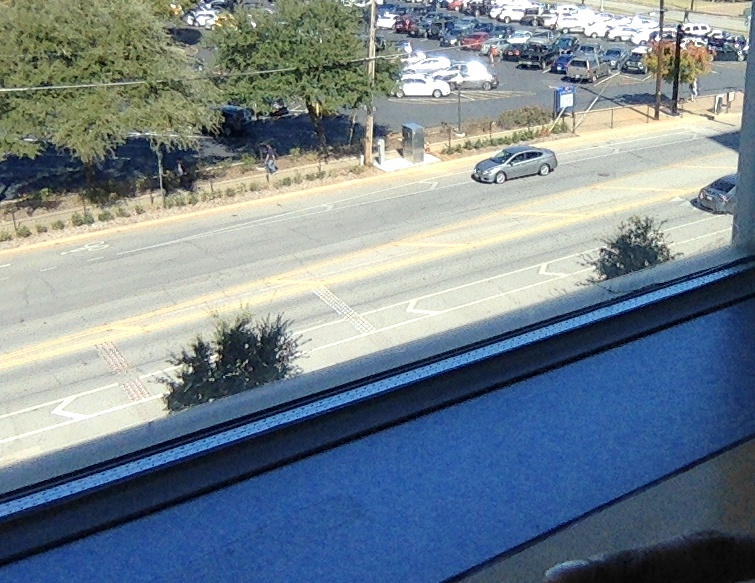car: (300, 300, 455, 370)
